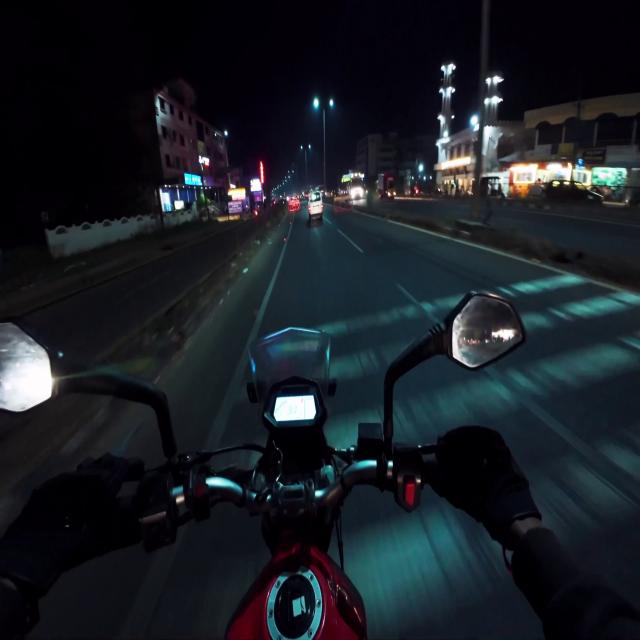car: (308, 191, 323, 221)
motorcycle: (0, 293, 525, 639)
